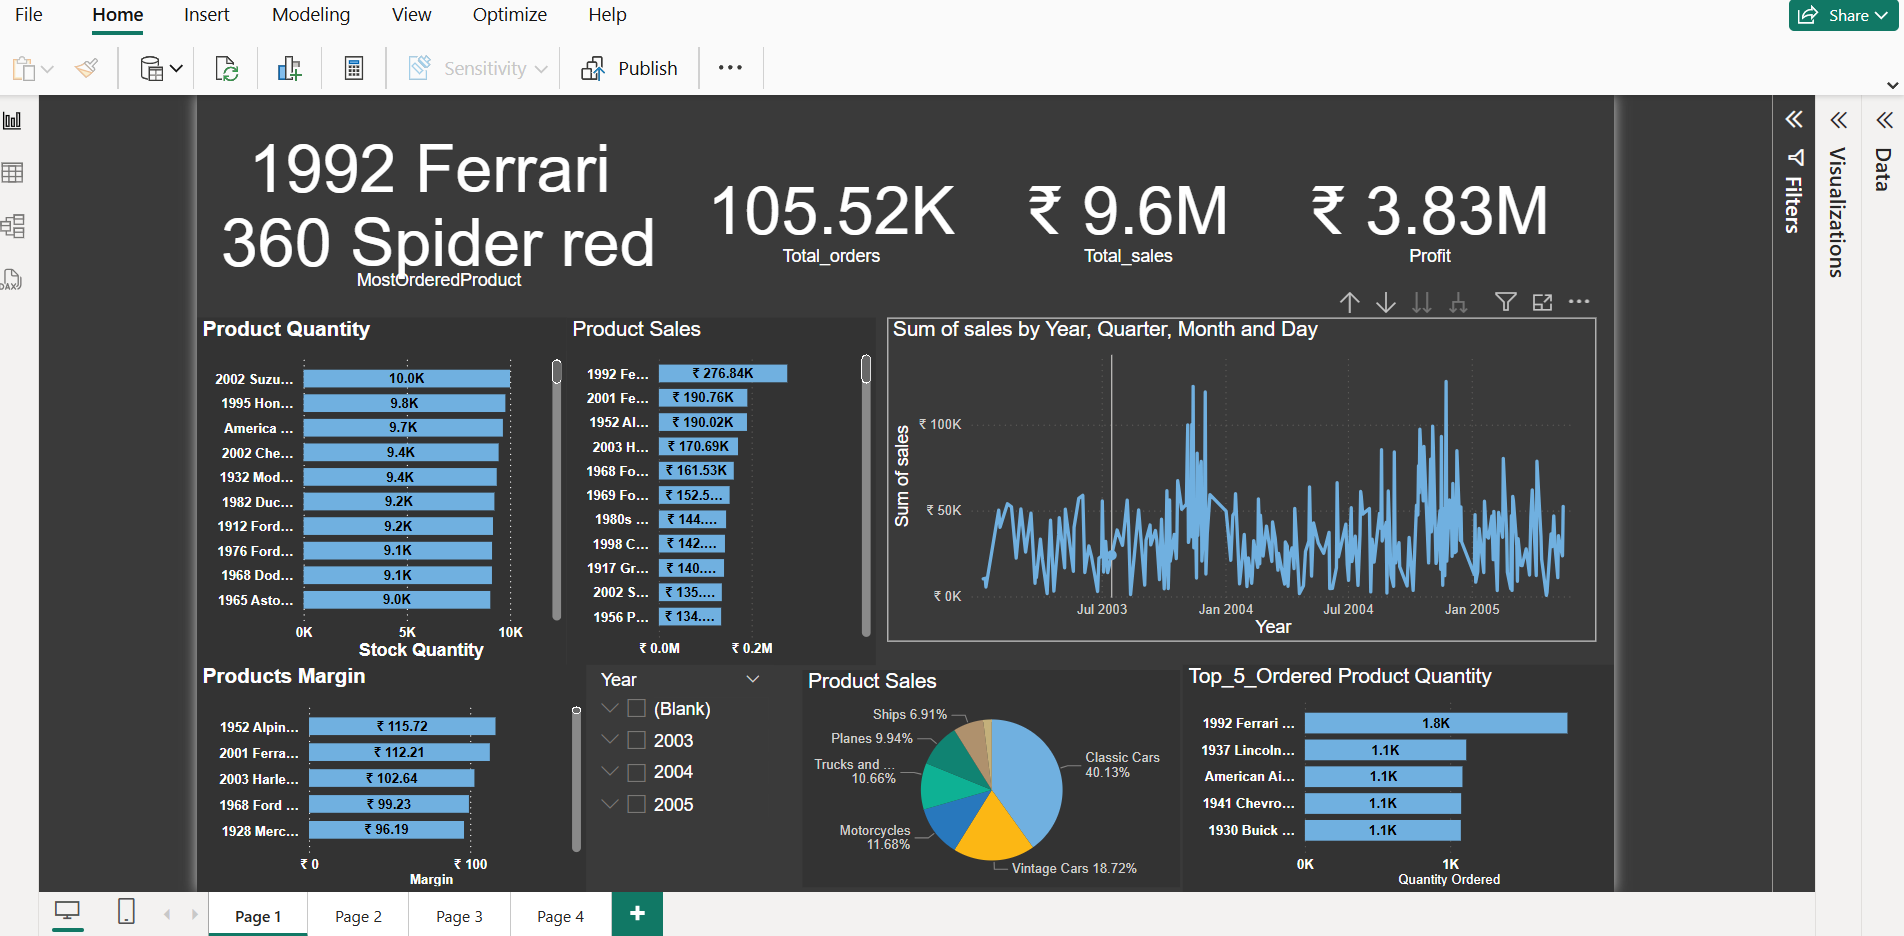

This screenshot's page, from the dashboard's own definition file:
{"tool":"powerbi","page":{"name":"Page 1","canvas":[1280,720],"ordinal":0},"visuals":[{"type":"barChart","title":"Product Quantity","fields":{"Category":["products.productName"],"Y":["Sum(products.quantityInStock)"]},"box":[0,200.9,333.8,314.1],"z":0},{"type":"barChart","title":"Products Margin","fields":{"Category":["products.productName"],"Y":["Sum(products.mergin)"]},"box":[0,515,351.9,205.4],"z":1000},{"type":"barChart","title":"Top_5_Ordered Product Quantity","fields":{"Category":["order_details.productName"],"Y":["Sum(order_details.quantityOrdered)"]},"box":[891,515,389.6,205.4],"z":2000},{"type":"barChart","title":"Product Sales","fields":{"Category":["order_details.productName"],"Y":["Sum(order_details.sales)"]},"box":[333.8,200.9,279.4,314.1],"z":3000},{"type":"pieChart","title":"     Product Sales","fields":{"Category":["products.productLine"],"Y":["Sum(order_details.sales)"]},"box":[546.7,519.5,341.3,196.3],"z":4000},{"type":"card","fields":{"Values":["Sum(order_details.profit)"]},"box":[977.7,10.4,295,161.9],"z":5000},{"type":"card","fields":{"Values":["classic_models_dataset.MostOrderedProduct"]},"box":[0,0,436.8,183.1],"z":6000},{"type":"card","fields":{"Values":["classic_models_dataset.Total_orders"]},"box":[437.3,0,267.6,172.3],"z":7001},{"type":"card","fields":{"Values":["classic_models_dataset.Total_sales"]},"box":[717.9,10.4,225.8,161.9],"z":7002},{"type":"lineChart","fields":{"Y":["Sum(order_details.sales)"],"Category":["orders.order_year.Variation.Date Hierarchy.Year","orders.order_year.Variation.Date Hierarchy.Quarter","orders.order_year.Variation.Date Hierarchy.Month","orders.order_year.Variation.Date Hierarchy.Day"]},"box":[623.7,200.9,640.3,293],"z":7003},{"type":"slicer","fields":{"Values":["orders.order_year.Variation.Date Hierarchy.Year","orders.order_year.Variation.Date Hierarchy.Quarter","orders.order_year.Variation.Date Hierarchy.Month","orders.order_year.Variation.Date Hierarchy.Day"]},"box":[351.9,515,169.1,205.4],"z":7004}]}

Visuals, with their boxes on the page's 1280x720 design canvas (x1, y1, x2, y2). These are canvas units, not pixel positions in the 1904x936 screenshot, which may show the page scaled, cropped or inside an application window:
"Product Quantity" barChart: box=[0, 201, 334, 515]
"Products Margin" barChart: box=[0, 515, 352, 720]
"Top_5_Ordered Product Quantity" barChart: box=[891, 515, 1281, 720]
"Product Sales" barChart: box=[334, 201, 613, 515]
"     Product Sales" pieChart: box=[547, 520, 888, 716]
card - Sum(order_details.profit): box=[978, 10, 1273, 172]
card - classic_models_dataset.MostOrderedProduct: box=[0, 0, 437, 183]
card - classic_models_dataset.Total_orders: box=[437, 0, 705, 172]
card - classic_models_dataset.Total_sales: box=[718, 10, 944, 172]
lineChart - Sum(order_details.sales) x orders.order_year.Variation.Date Hierarchy.Year: box=[624, 201, 1264, 494]
slicer - orders.order_year.Variation.Date Hierarchy.Year x orders.order_year.Variation.Date Hierarchy.Quarter: box=[352, 515, 521, 720]
